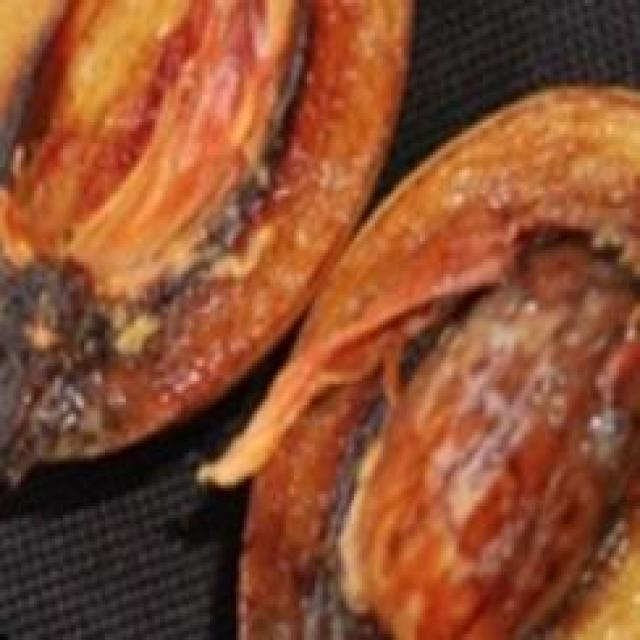damaged: (199, 86, 637, 637)
